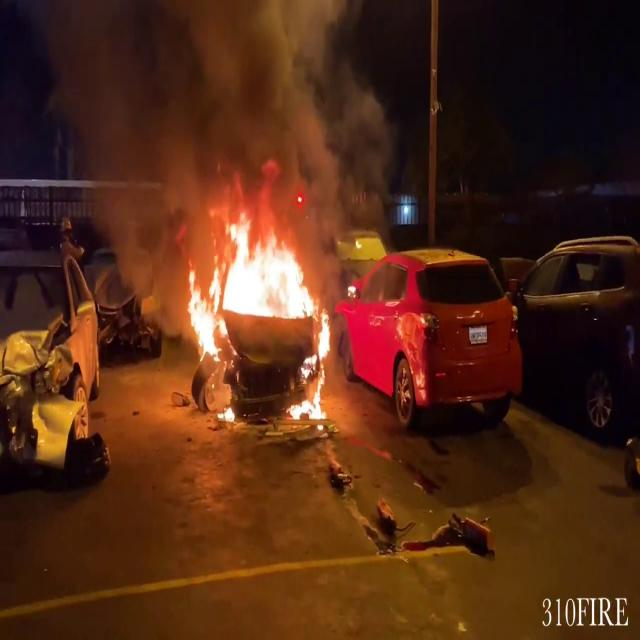Fire: (177, 208, 333, 417), (217, 399, 240, 426)
Smoke: (38, 0, 409, 241)
